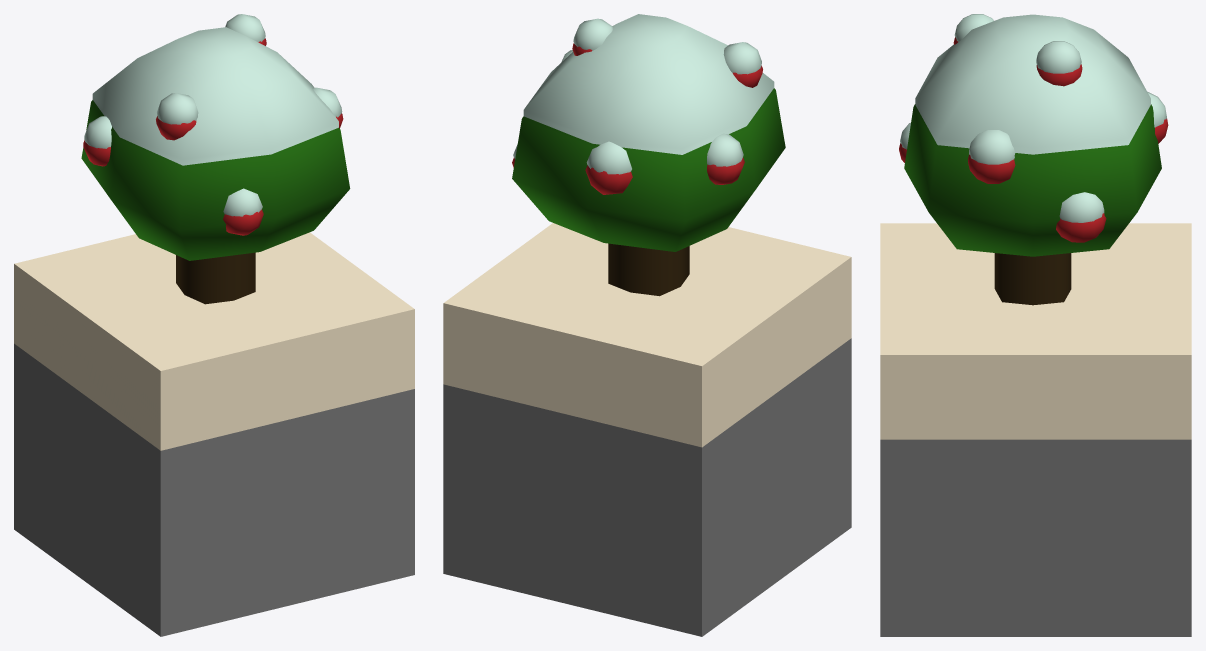
The model's file is SnowAppleTreeBlender.glb.
3 views of the same model, side by side, from view 1: azimuth 30°, elevation 25°; view 2: azimuth 150°, elevation 25°; view 3: azimuth 270°, elevation 25° (orthographic). The views are drawn at different scales.
Visible parts, largest first — view 1: WinterGroundRockSnow, WinterTreeApplesShortG_v2; view 2: WinterGroundRockSnow, WinterTreeApplesShortG_v2; view 3: WinterGroundRockSnow, WinterTreeApplesShortG_v2.
Part boxes in pixels (x1,y1,x2,y2): WinterGroundRockSnow: [14, 232, 414, 636]; WinterTreeApplesShortG_v2: [81, 14, 350, 304]; WinterGroundRockSnow: [443, 223, 851, 636]; WinterTreeApplesShortG_v2: [512, 14, 785, 296]; WinterGroundRockSnow: [880, 223, 1191, 636]; WinterTreeApplesShortG_v2: [899, 14, 1168, 305].
Size of the model in its own units: 2 by 3.9 by 2.
1 material, 1 textured.
